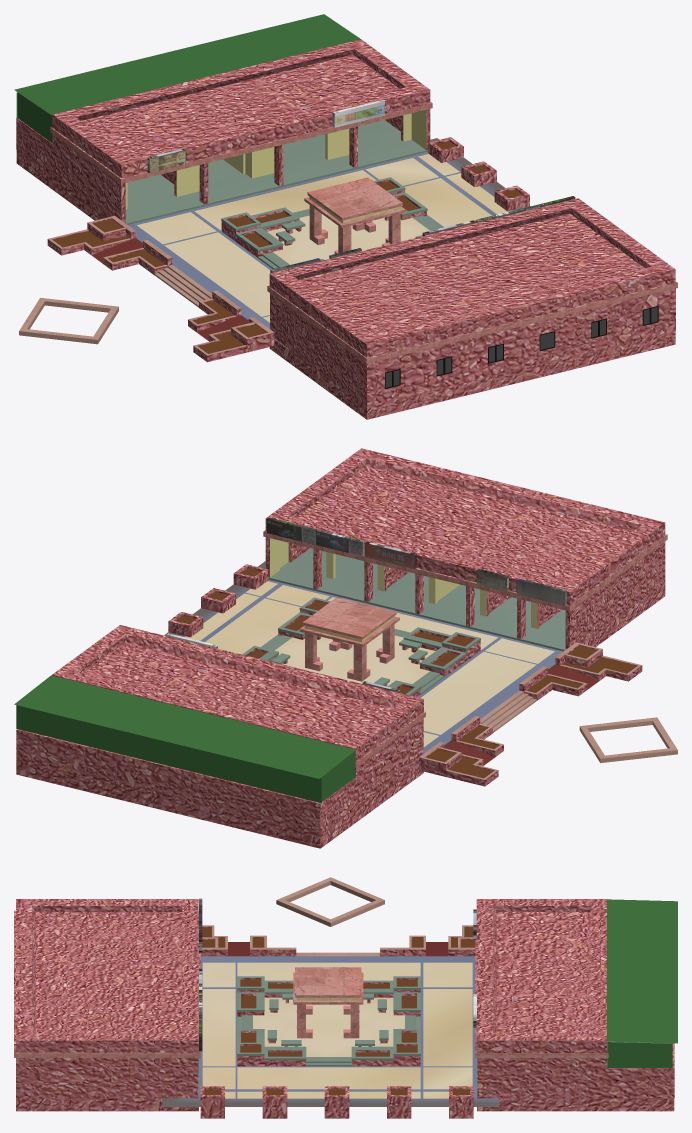
Rendered from market1.fbx.
3 views of the same model, one above another, from view 1: azimuth 30°, elevation 25°; view 2: azimuth 150°, elevation 25°; view 3: azimuth 270°, elevation 25° (orthographic). The views are drawn at different scales.
Parts seen in each view (by area): view 1: Screenshot (2826), Screenshot (2826).001, Plane.001, Plane.178, Cube.002, Plane.003, Plane, Cube.003, Cube.056, Cube.004, Plane.175, Screenshot (2826).003 (+3 smaller); view 2: Screenshot (2826), Screenshot (2826).001, Plane.178, Plane.001, Cube.003, Plane.003, Plane, Cube.002, Cube.056, Cube.004, Cube, Plane.175 (+3 smaller); view 3: Screenshot (2826), Plane.001, Screenshot (2826).001, Plane, Plane.178, Cube.004, Plane.003, Cube.056, Cube.002, Cube.003, Plane.175.
Boxes of the visible parts, x1=… form: Screenshot (2826): x1=50, y1=39, x2=677, y2=363; Screenshot (2826).001: x1=16, y1=109, x2=675, y2=405; Plane.001: x1=128, y1=138, x2=529, y2=349; Plane.178: x1=14, y1=14, x2=360, y2=142; Cube.002: x1=16, y1=120, x2=428, y2=224; Plane.003: x1=47, y1=215, x2=274, y2=362; Plane: x1=221, y1=177, x2=442, y2=268; Cube.003: x1=269, y1=331, x2=675, y2=419; Cube.056: x1=304, y1=177, x2=405, y2=253; Cube.004: x1=428, y1=137, x2=529, y2=211; Plane.175: x1=19, y1=297, x2=118, y2=344; Screenshot (2826).003: x1=385, y1=306, x2=658, y2=388; Screenshot (2826): x1=52, y1=448, x2=667, y2=767; Screenshot (2826).001: x1=16, y1=537, x2=665, y2=835; Plane.178: x1=14, y1=675, x2=355, y2=803; Plane.001: x1=164, y1=561, x2=589, y2=768; Cube.003: x1=268, y1=548, x2=665, y2=651; Plane.003: x1=419, y1=642, x2=642, y2=786; Plane: x1=242, y1=597, x2=480, y2=697; Cube.002: x1=16, y1=761, x2=423, y2=848; Cube.056: x1=299, y1=597, x2=399, y2=681; Cube.004: x1=168, y1=564, x2=268, y2=637; Cube: x1=313, y1=549, x2=525, y2=638; Plane.175: x1=579, y1=717, x2=677, y2=763; Screenshot (2826): x1=14, y1=899, x2=608, y2=1057; Plane.001: x1=162, y1=956, x2=499, y2=1106; Screenshot (2826).001: x1=16, y1=1043, x2=674, y2=1098; Plane: x1=237, y1=976, x2=420, y2=1066; Plane.178: x1=607, y1=899, x2=677, y2=1067; Cube.004: x1=200, y1=1086, x2=473, y2=1118; Plane.003: x1=200, y1=925, x2=475, y2=956; Cube.056: x1=293, y1=967, x2=363, y2=1038; Cube.002: x1=477, y1=1041, x2=674, y2=1111; Cube.003: x1=16, y1=1058, x2=198, y2=1111; Plane.175: x1=276, y1=877, x2=384, y2=926.
Bounding box in the file's own units: 3665 × 529 × 4417.
